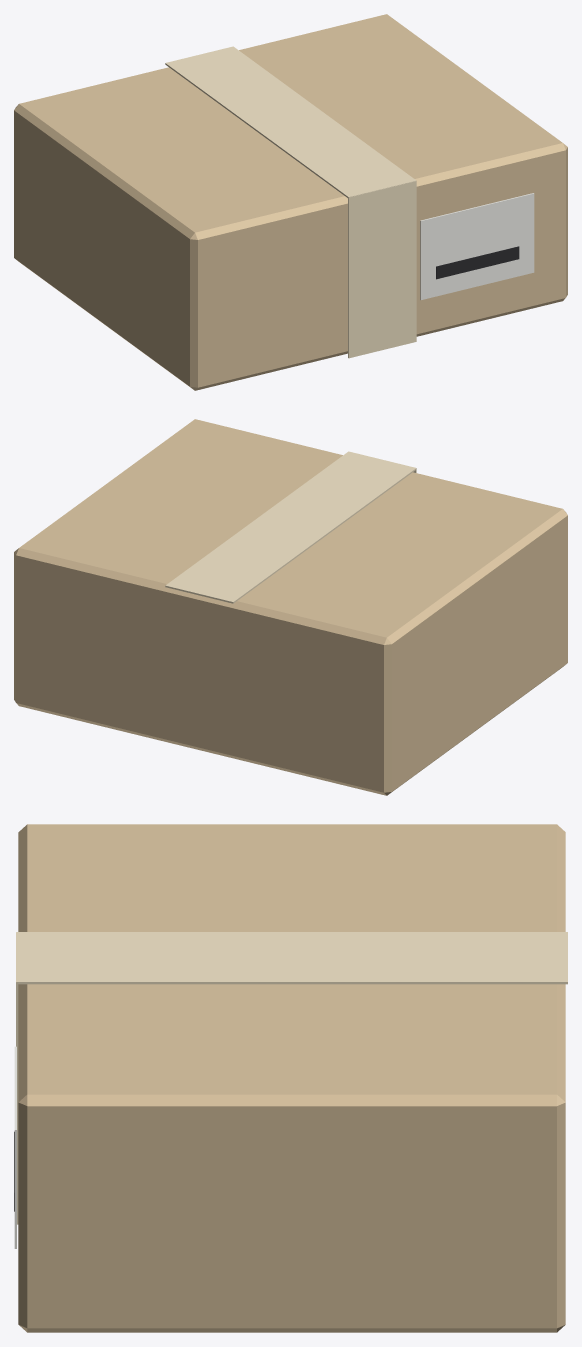
Rendered from carton_small.fbx.
3 renders of one model, top to bottom at view 1: azimuth 30°, elevation 25°; view 2: azimuth 150°, elevation 25°; view 3: azimuth 270°, elevation 25°, orthographic. The views are drawn at different scales.
Parts seen in each view (by area): view 1: Carton; view 2: Carton; view 3: Carton.
Part boxes in pixels (x1,y1,x2,y2): Carton: [14, 14, 567, 390]; Carton: [14, 419, 567, 795]; Carton: [14, 824, 567, 1332].
Size of the model in its own units: 0.3 by 0.1222 by 0.253.
